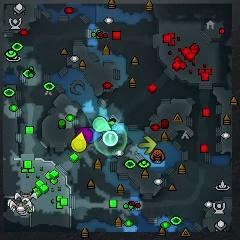Other: (103, 131, 118, 147)
p1: (88, 126, 101, 144)
p2: (93, 116, 111, 133)
p3: (78, 128, 93, 144)
p4: (72, 131, 85, 151)
x2: (138, 137, 156, 153)
